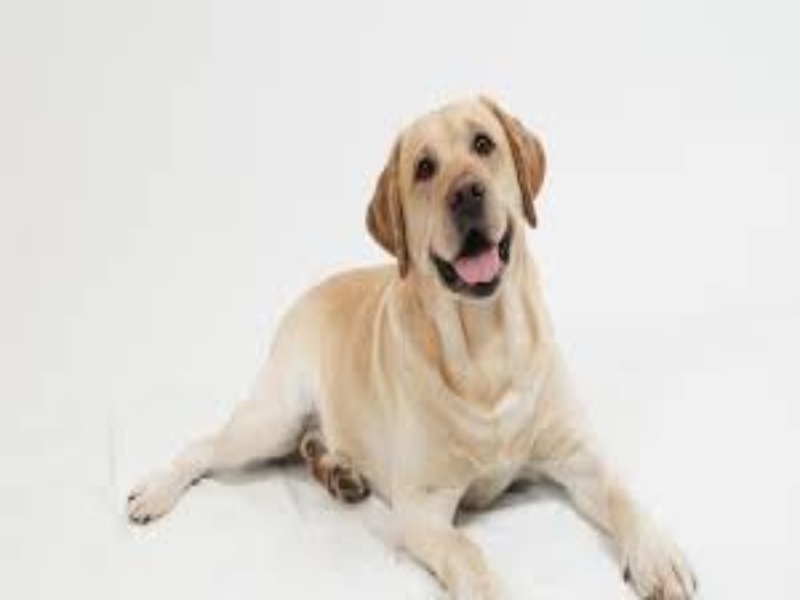dog: (120, 89, 705, 600)
